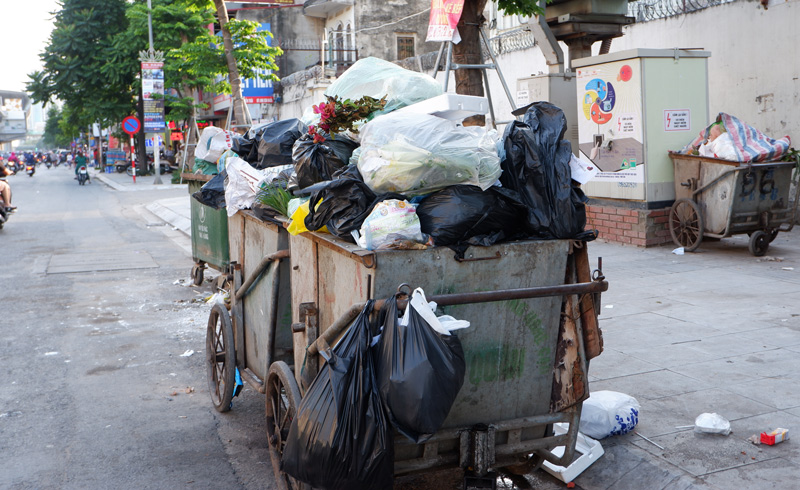plastic bag: (185, 51, 602, 257), (281, 300, 394, 490), (380, 286, 469, 450), (690, 112, 792, 159), (576, 389, 640, 445), (693, 409, 732, 436)
